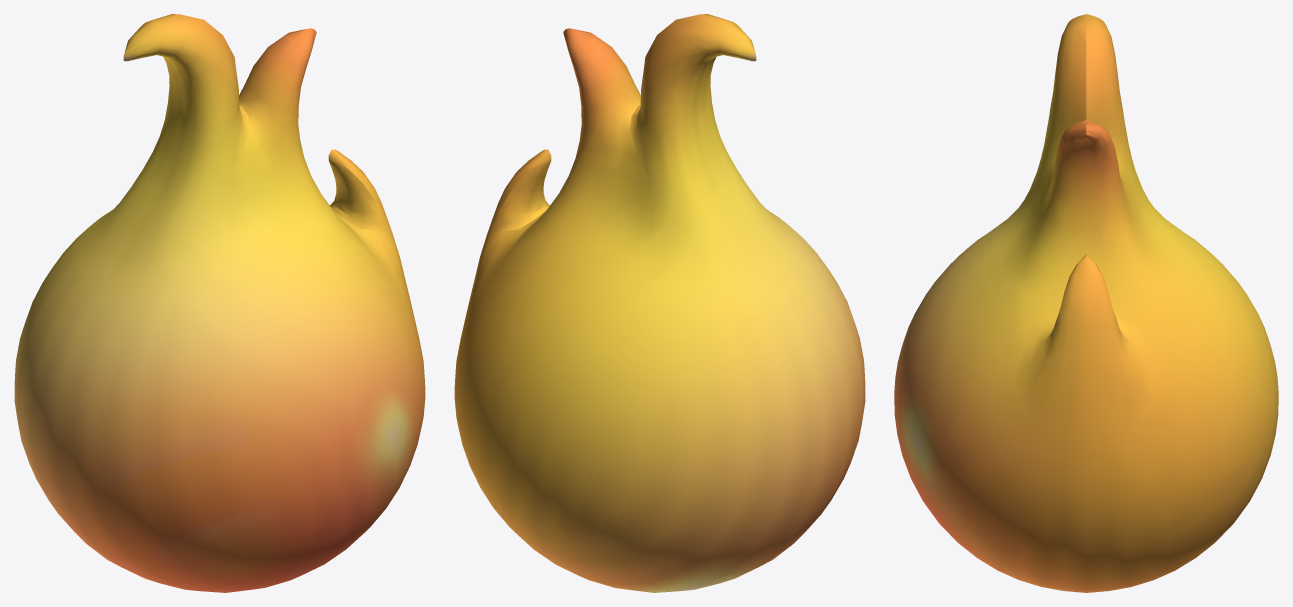
The model's file is anger.glb.
3 renders of one model, left to right at view 1: azimuth 30°, elevation 25°; view 2: azimuth 150°, elevation 25°; view 3: azimuth 270°, elevation 25°, orthographic. The views are drawn at different scales.
Parts seen in each view (by area): view 1: anger; view 2: anger; view 3: anger.
Boxes of the visible parts, bbox=[...] form: anger: bbox=[14, 14, 425, 592]; anger: bbox=[454, 14, 865, 592]; anger: bbox=[894, 14, 1278, 592].
Size of the model in its own units: 320 by 484 by 317.
1 material, 1 textured.
